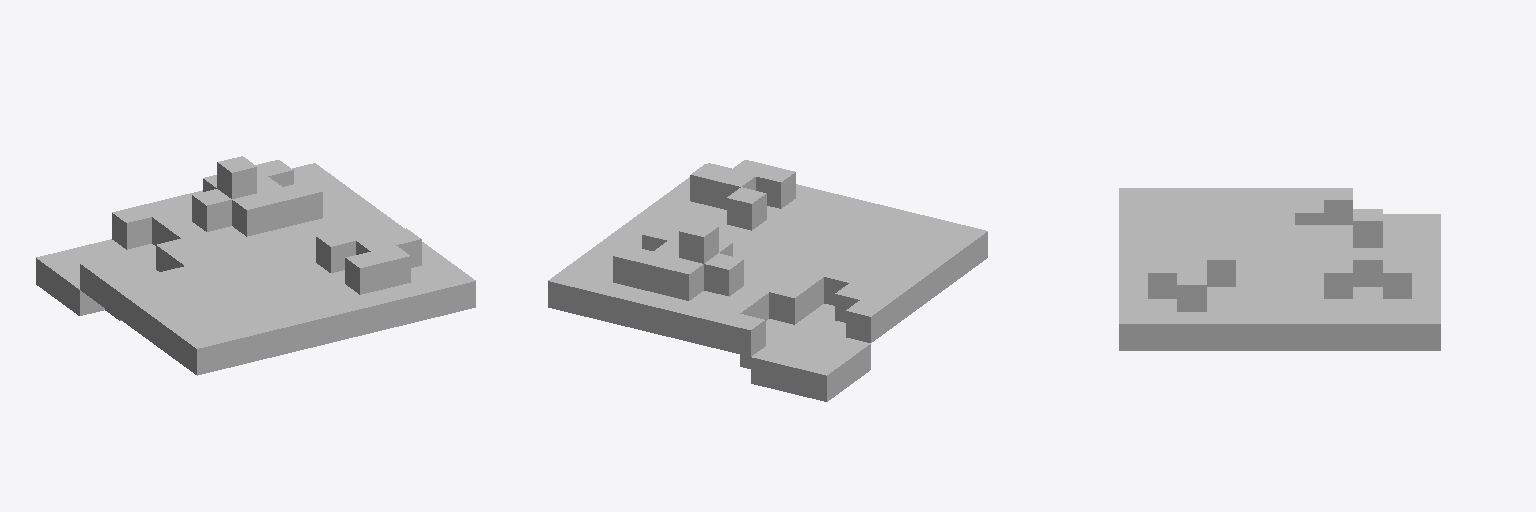
Rendered from floor.obj.
3 renders of one model, left to right at view 1: azimuth 30°, elevation 25°; view 2: azimuth 150°, elevation 25°; view 3: azimuth 270°, elevation 25°, orthographic.
Visible parts, largest first — view 1: ground; view 2: ground; view 3: ground.
Part boxes in pixels (x1,y1,x2,y2): ground: (36, 156, 475, 375); ground: (548, 160, 987, 401); ground: (1119, 188, 1440, 350).
Size of the model in its own units: 22 by 8 by 22.